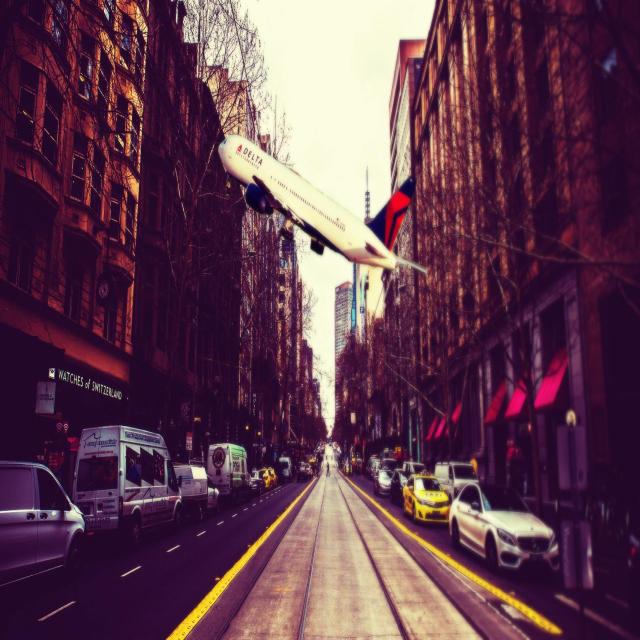airplane: (217, 133, 428, 275)
